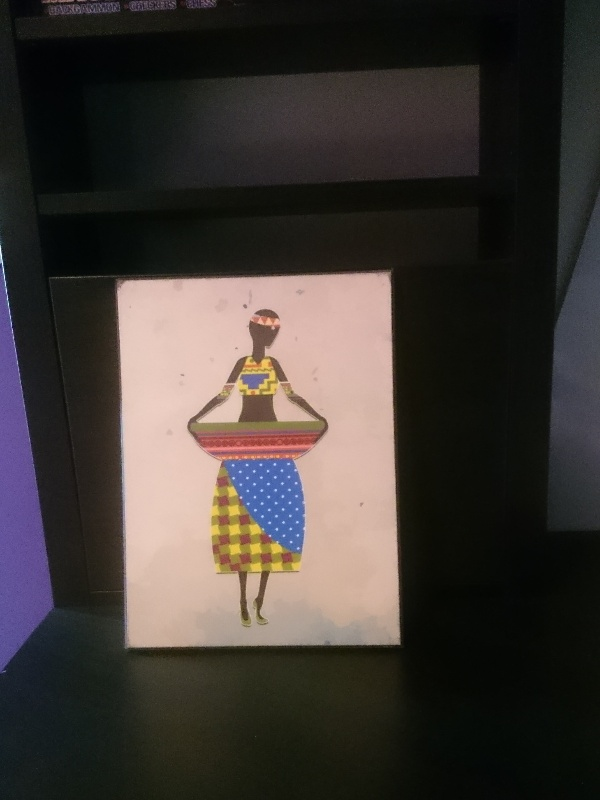my image: (126, 274, 397, 645)
